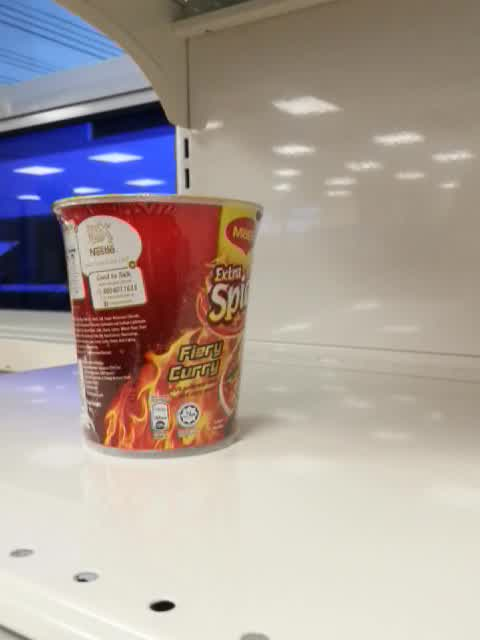maggi: (52, 192, 265, 458)
